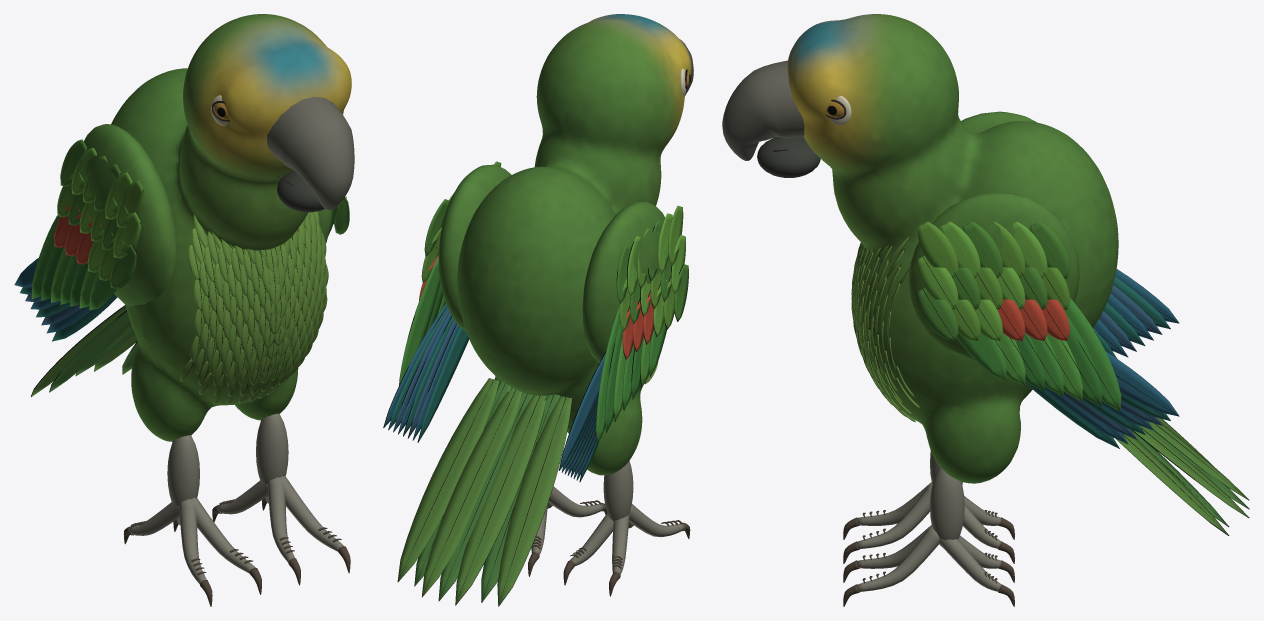
Rendered from Papagaio_Amazonas.fbx.
3 renders of one model, left to right at view 1: azimuth 30°, elevation 25°; view 2: azimuth 150°, elevation 25°; view 3: azimuth 270°, elevation 25°, orthographic. The views are drawn at different scales.
Parts seen in each view (by area): view 1: Papagaio_Amazonas; view 2: Papagaio_Amazonas; view 3: Papagaio_Amazonas.
Boxes of the visible parts, x1,y1,x2,y2 form: Papagaio_Amazonas: (14, 14, 354, 606); Papagaio_Amazonas: (383, 14, 693, 606); Papagaio_Amazonas: (722, 14, 1249, 606).
Size of the model in its own units: 0.6382 by 1.5 by 1.3.
1 material, 1 textured.
